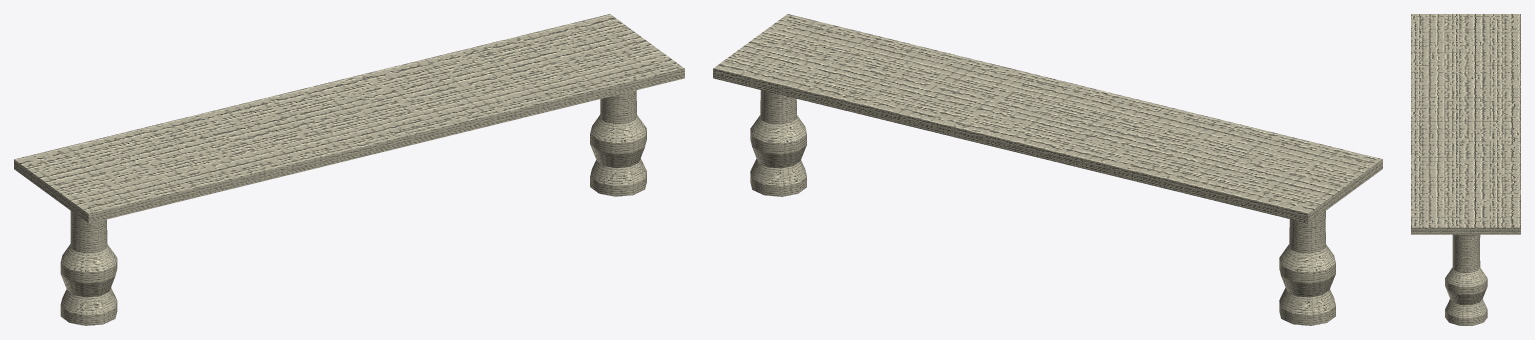
Rendered from Cau.fbx.
3 views of the same model, side by side, from view 1: azimuth 30°, elevation 25°; view 2: azimuth 150°, elevation 25°; view 3: azimuth 270°, elevation 25° (orthographic). The views are drawn at different scales.
Parts seen in each view (by area): view 1: pCube1, pCylinder1, pCylinder2; view 2: pCube1, pCylinder1, pCylinder2; view 3: pCube1, pCylinder2.
Boxes of the visible parts, x1,y1,x2,y2 form: pCube1: (14, 14, 684, 223); pCylinder1: (60, 211, 117, 325); pCylinder2: (590, 90, 646, 196); pCube1: (713, 14, 1382, 223); pCylinder1: (1279, 211, 1335, 325); pCylinder2: (750, 90, 806, 196); pCube1: (1411, 14, 1520, 234); pCylinder2: (1445, 234, 1487, 325).
Size of the model in its own units: 175 by 38.19 by 37.9.
